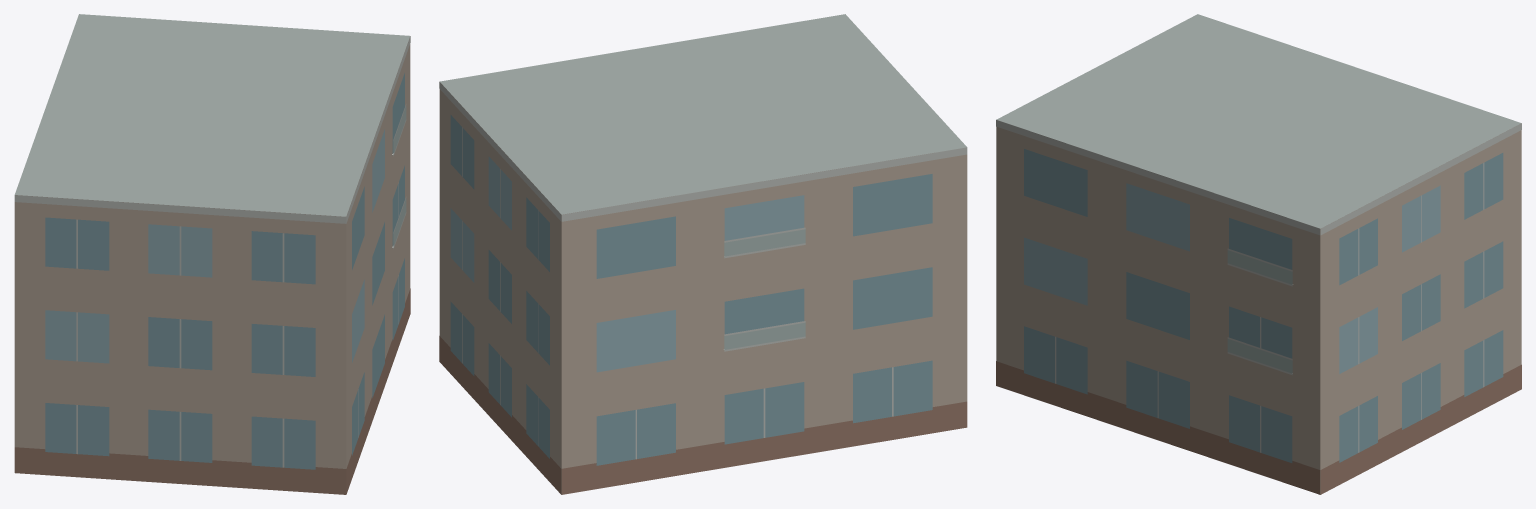
The model's file is survey-upis-32703264.glb.
3 renders of one model, left to right at view 1: azimuth 30°, elevation 25°; view 2: azimuth 150°, elevation 25°; view 3: azimuth 270°, elevation 25°, orthographic. The views are drawn at different scales.
Visible parts, largest first — view 1: survey-upis-32703264.tmp; view 2: survey-upis-32703264.tmp; view 3: survey-upis-32703264.tmp.
Part boxes in pixels (<box>): survey-upis-32703264.tmp: <box>14,14,410,494</box>; survey-upis-32703264.tmp: <box>439,14,967,494</box>; survey-upis-32703264.tmp: <box>996,14,1521,494</box>.
Size of the model in its own units: 16.53 by 9.55 by 17.1.
